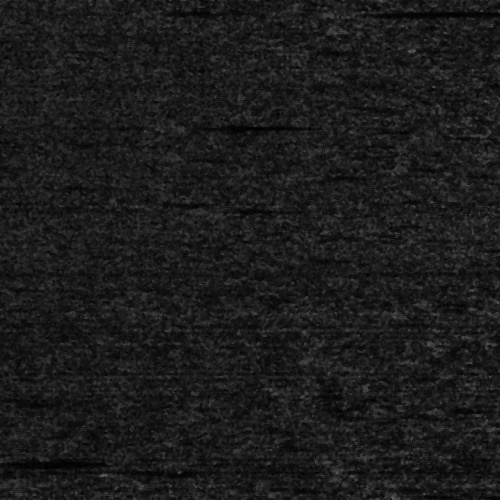object: (117, 120, 200, 129), (307, 8, 380, 17), (442, 128, 500, 135), (436, 245, 489, 250)
shadow: (344, 8, 459, 17), (159, 120, 274, 129), (0, 458, 95, 463), (462, 245, 500, 250), (474, 128, 500, 135)
